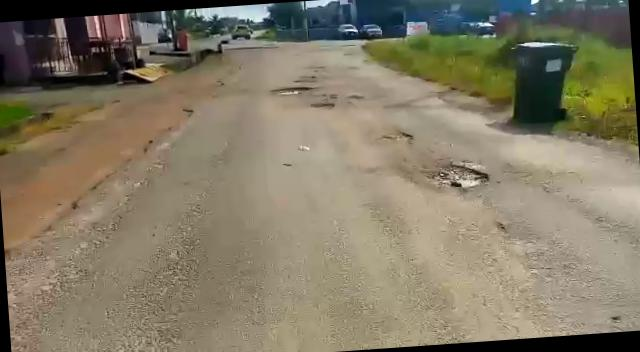pothole: (422, 156, 493, 195), (378, 132, 416, 146), (275, 83, 315, 94), (309, 100, 335, 112)
